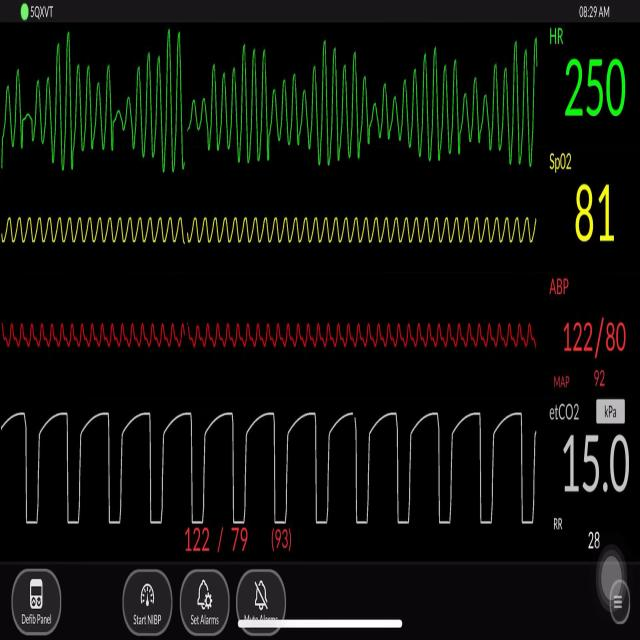danger: (11, 36, 540, 182)
